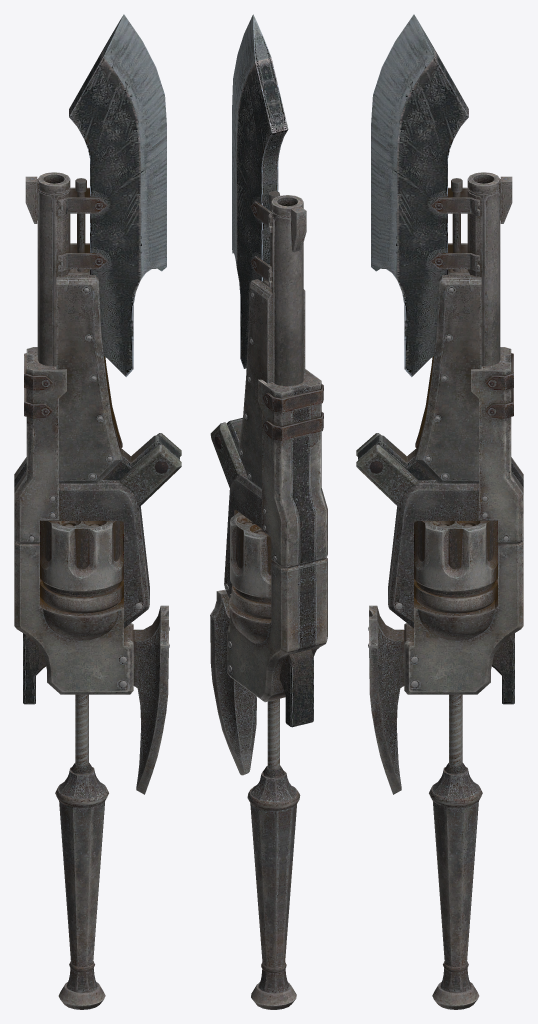
The model's file is bs_gun002.obj.
3 views of the same model, side by side, from view 1: azimuth 90°, elevation 25°; view 2: azimuth 210°, elevation 25°; view 3: azimuth 270°, elevation 25° (orthographic).
Visible parts, largest first — view 1: bs_gun002_000_LOD_1, bs_gun002_002_LOD_1, bs_gun002_003_LOD_1, bs_gun002_001_LOD_1; view 2: bs_gun002_000_LOD_1, bs_gun002_002_LOD_1, bs_gun002_003_LOD_1, bs_gun002_001_LOD_1; view 3: bs_gun002_000_LOD_1, bs_gun002_002_LOD_1, bs_gun002_003_LOD_1, bs_gun002_001_LOD_1.
Part boxes in pixels (x1,y1,x2,y2): bs_gun002_000_LOD_1: [14, 347, 181, 1009]; bs_gun002_002_LOD_1: [57, 14, 166, 376]; bs_gun002_003_LOD_1: [25, 172, 179, 483]; bs_gun002_001_LOD_1: [37, 191, 52, 366]; bs_gun002_000_LOD_1: [210, 369, 327, 1009]; bs_gun002_002_LOD_1: [232, 14, 288, 368]; bs_gun002_003_LOD_1: [227, 191, 306, 490]; bs_gun002_001_LOD_1: [274, 216, 303, 386]; bs_gun002_000_LOD_1: [356, 347, 523, 1009]; bs_gun002_002_LOD_1: [371, 14, 480, 376]; bs_gun002_003_LOD_1: [358, 172, 512, 483]; bs_gun002_001_LOD_1: [485, 191, 500, 366].
Size of the model in its own units: 26.66 by 319 by 48.92.
